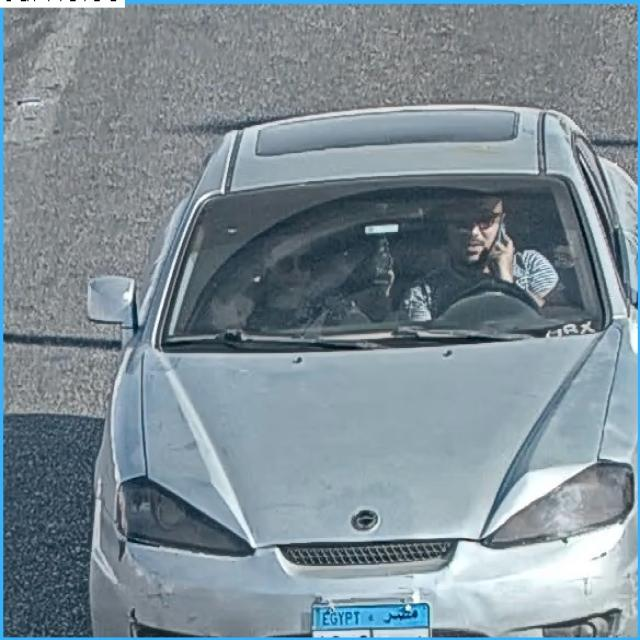windshield: (150, 182, 617, 348)
